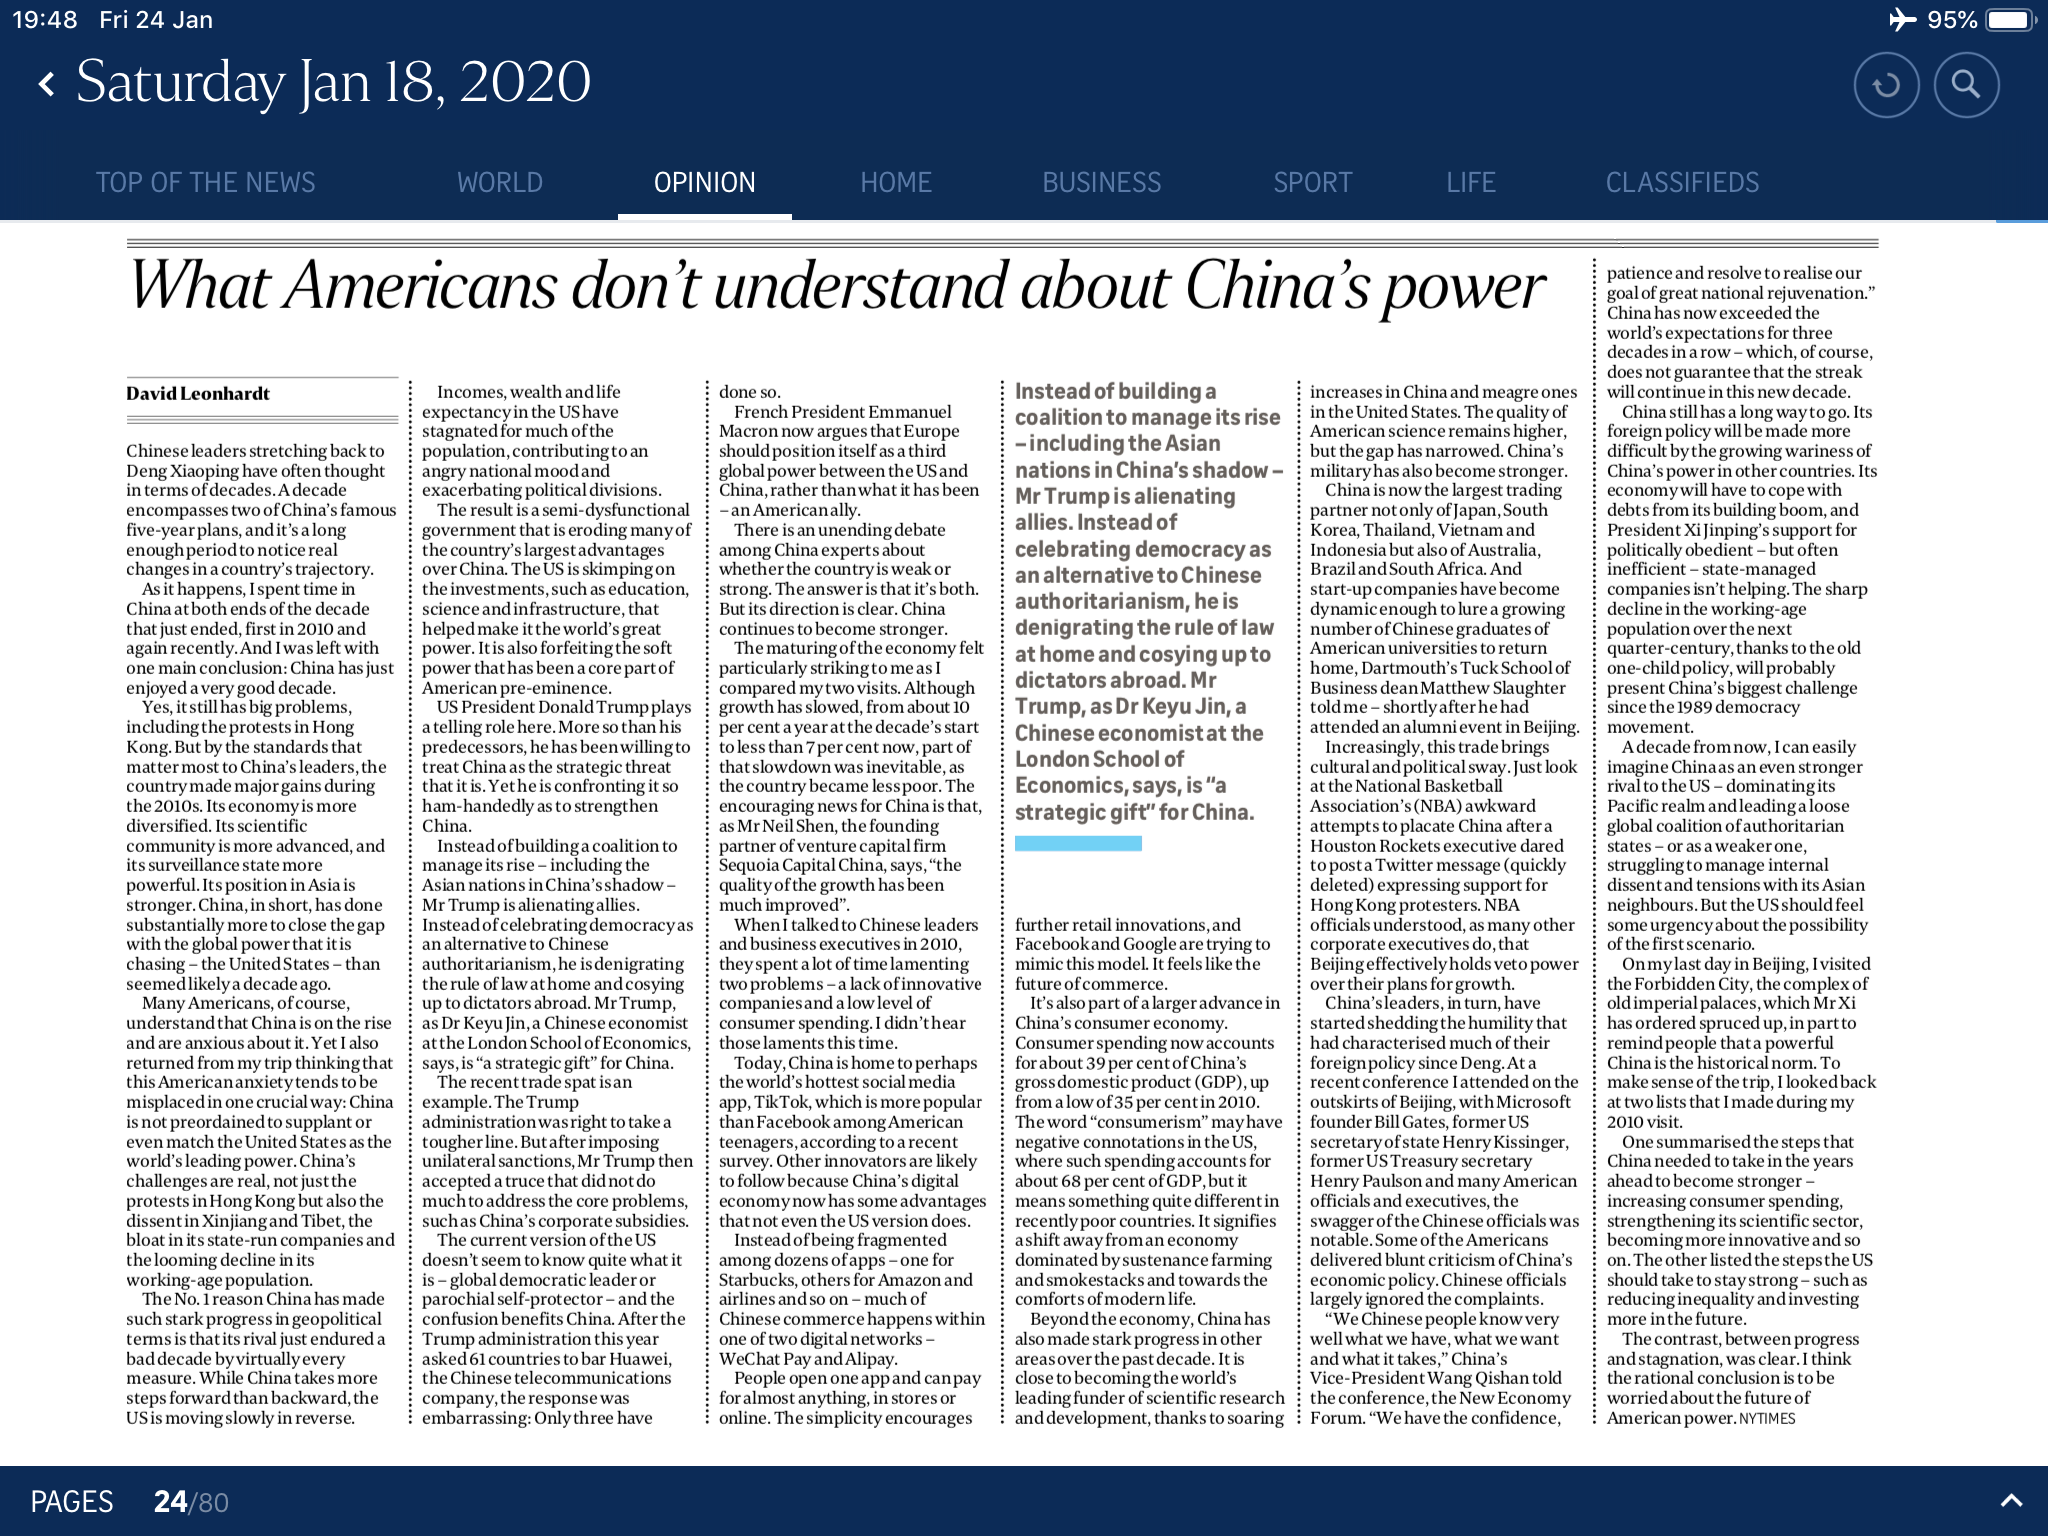Headline: (114, 250, 1556, 332)
